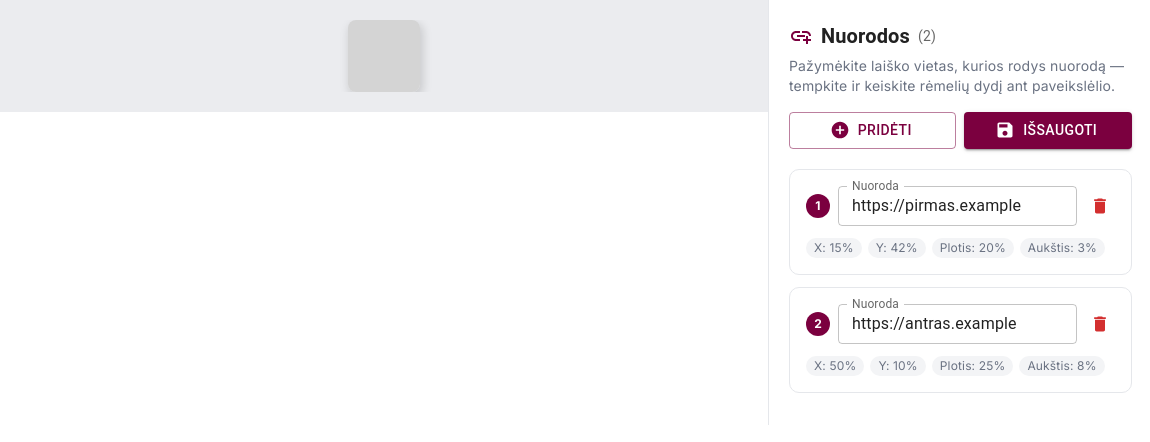
it: InteractiveImageEditor — adding, selecting, deleting, editing › the delete button removes its card and the rest renumber
Expected: the heading "Nuorodos" is shown, [821,20,910,52]
Click the button named "Ištrinti nuorodą Nr. 1".
click(1100, 206)  # box [1085,190,1115,220]
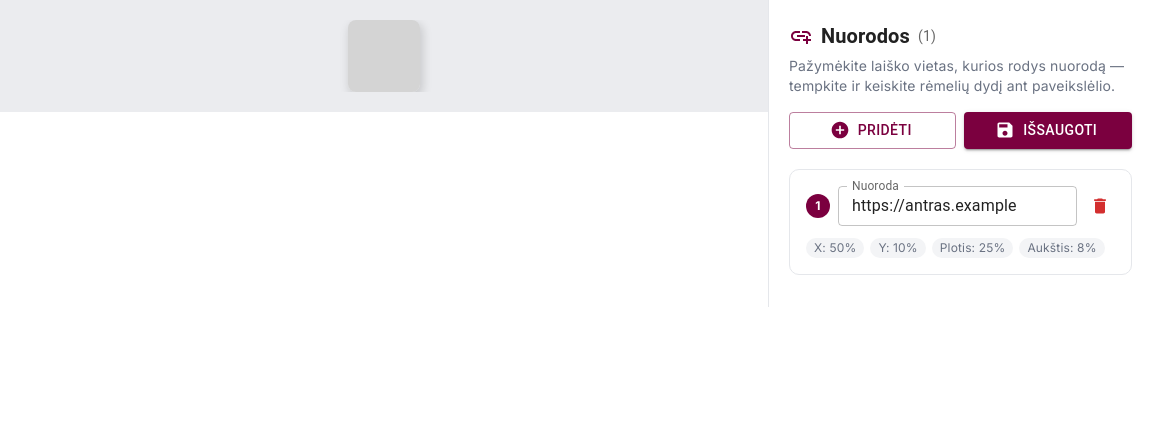
Expected: the field labelled "Nuoroda" holds "https://antras.example", [838,186,1077,226]
Expected: the text "(1)" is shown, [918,26,936,46]
